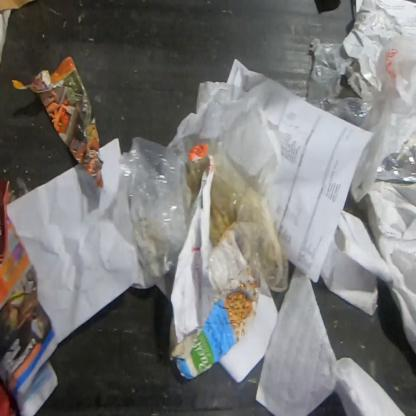cardboard: (169, 167, 254, 344), (168, 279, 261, 380), (0, 0, 36, 68)
soft_plastic: (187, 139, 291, 299), (109, 135, 189, 288), (347, 32, 416, 205), (305, 38, 373, 132), (375, 130, 415, 184)
